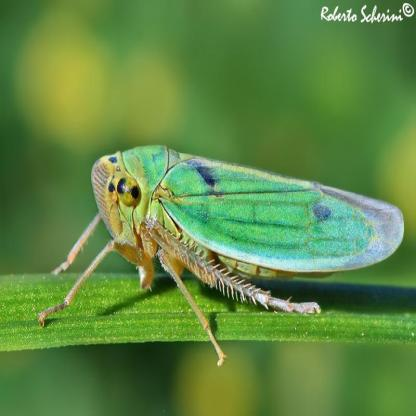Green-Leafhopper: (38, 147, 404, 365)
